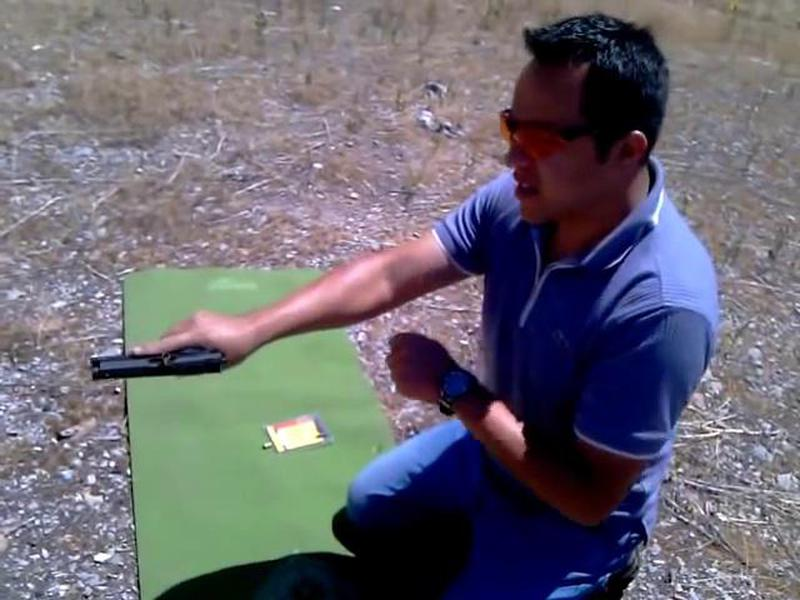Pistola: (67, 334, 238, 390)
